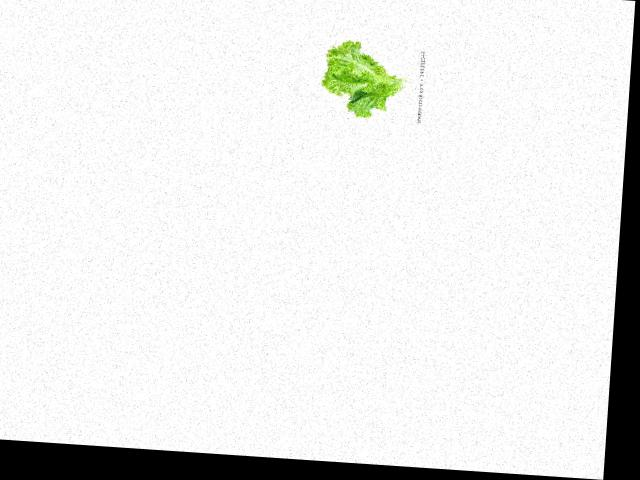lettuce: (317, 39, 415, 123)
